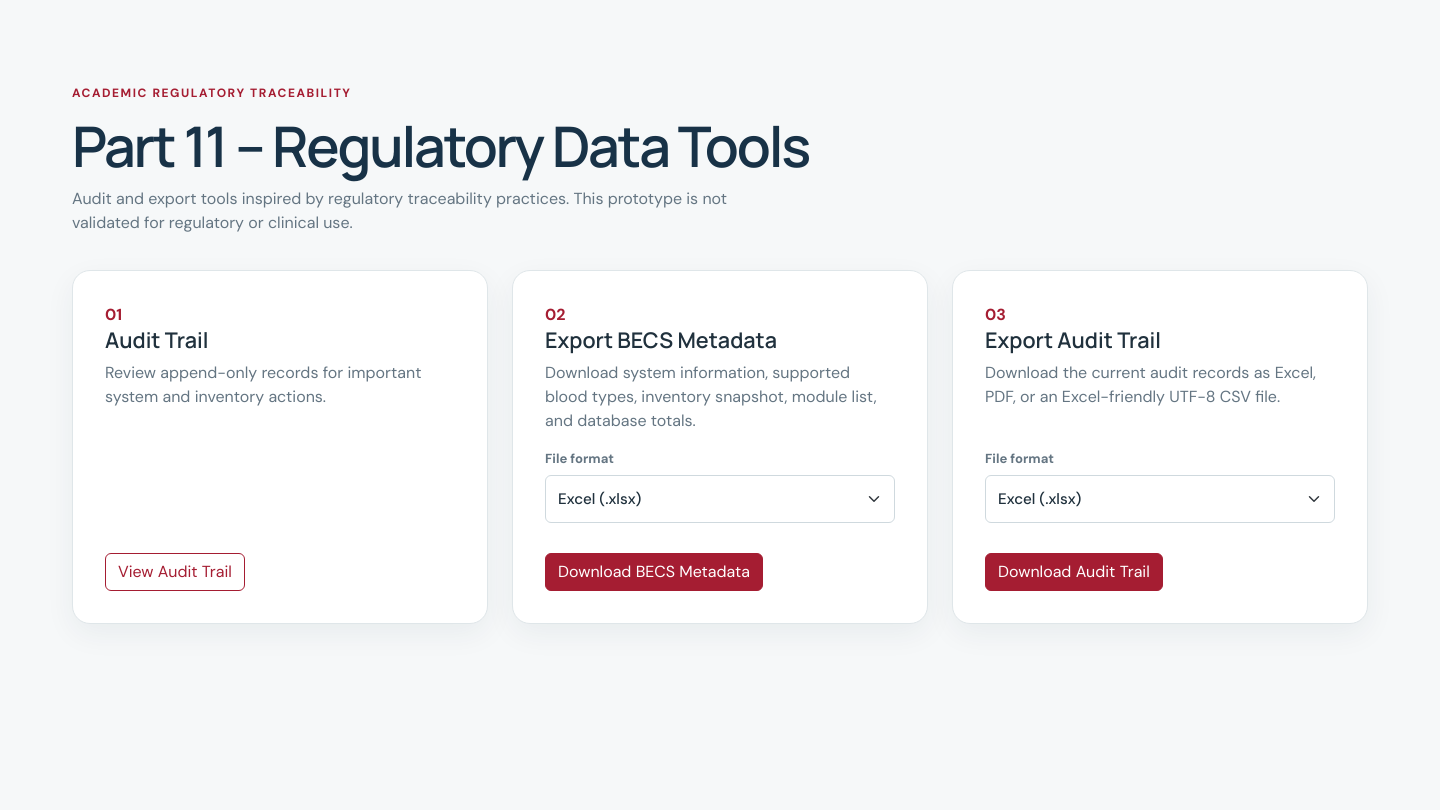
Test: audit export supports PDF selection
Select "PDF (.pdf)" in the dropdown named "audit export format": (1160, 499) [985,475,1335,523]
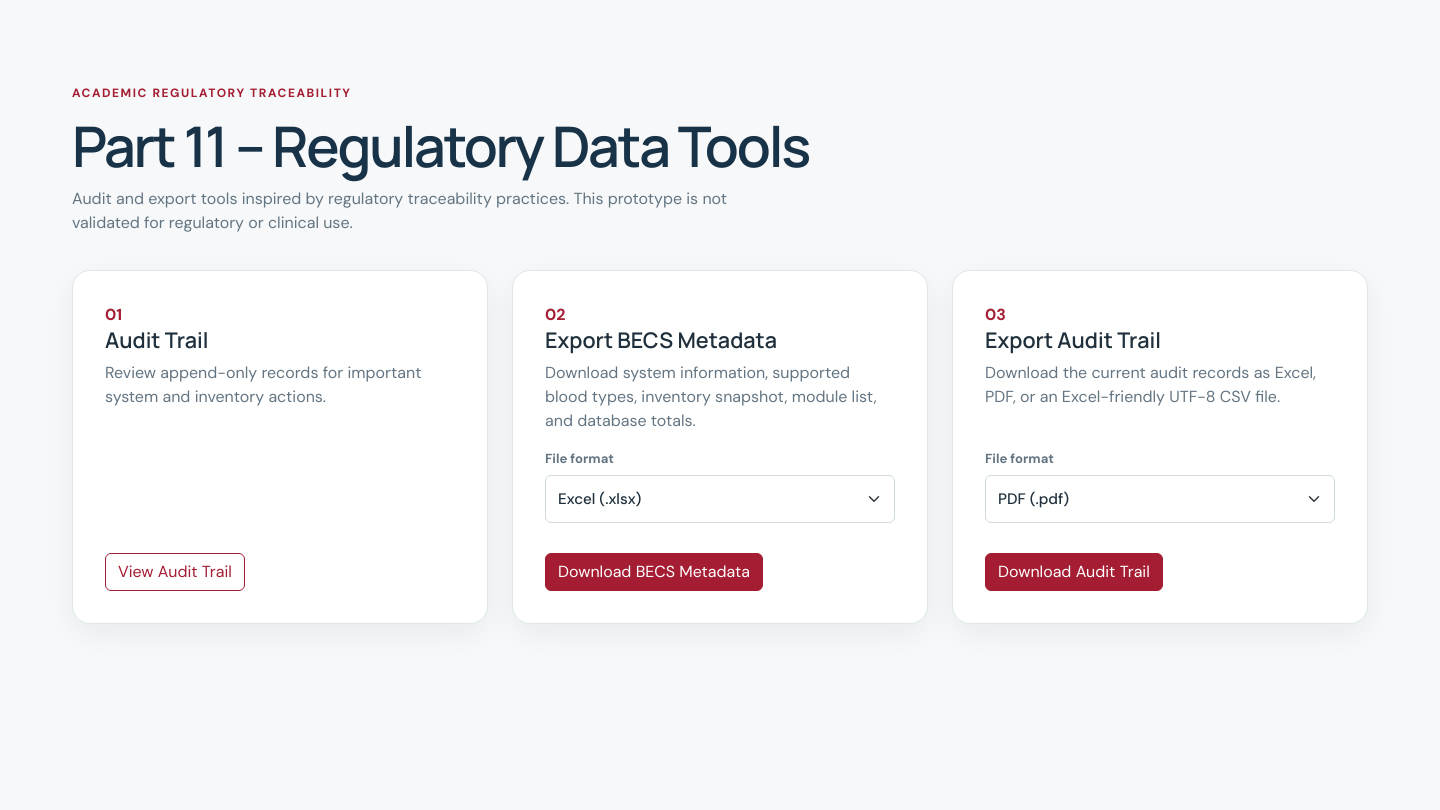
Click the button "Download Audit Trail": (1074, 572) [985,553,1163,591]
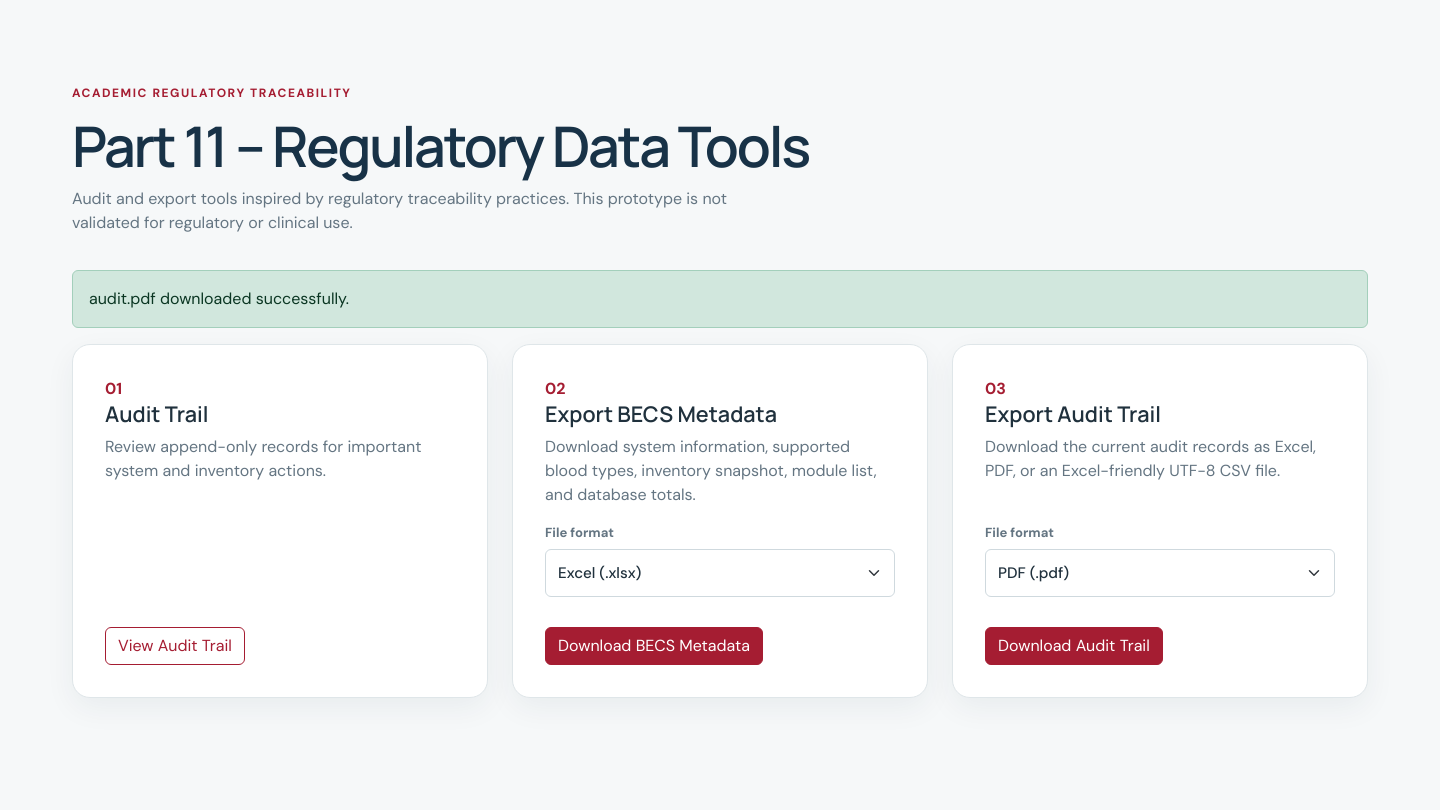
Result: the message shows "audit.pdf" at [89,288,349,309]
